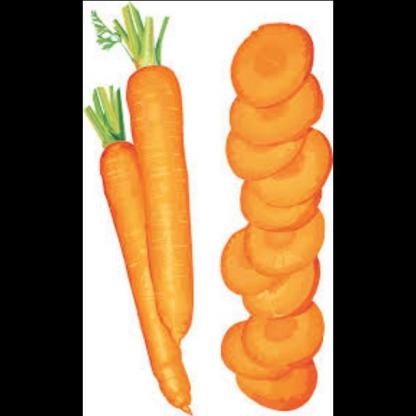carrot: (217, 11, 325, 416), (96, 120, 194, 416), (122, 38, 200, 349)
